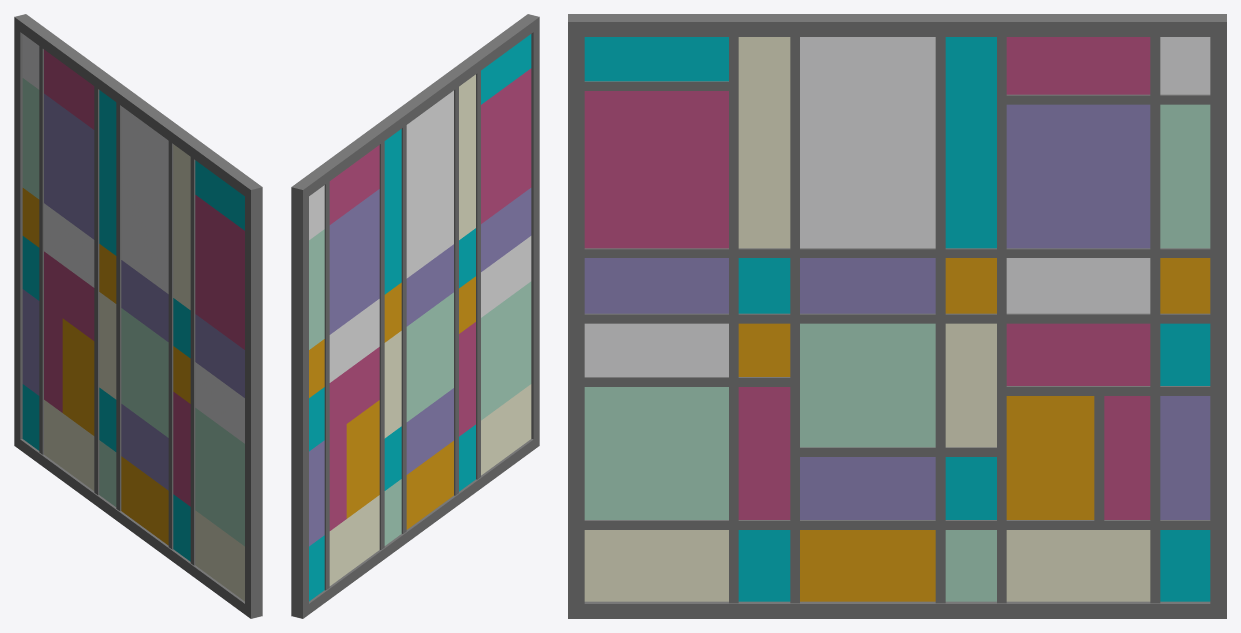
The model's file is SM_BlockGlassFramedColored.FBX.
3 renders of one model, left to right at view 1: azimuth 30°, elevation 25°; view 2: azimuth 150°, elevation 25°; view 3: azimuth 270°, elevation 25°, orthographic. The views are drawn at different scales.
Parts seen in each view (by area): view 1: SM_BlockGlassFramedColored_LOD0; view 2: SM_BlockGlassFramedColored_LOD0; view 3: SM_BlockGlassFramedColored_LOD0.
Boxes of the visible parts, box(x1,y1,x2,y2) form: SM_BlockGlassFramedColored_LOD0: box(14, 14, 262, 618); SM_BlockGlassFramedColored_LOD0: box(291, 14, 539, 618); SM_BlockGlassFramedColored_LOD0: box(568, 14, 1226, 618).
Size of what is drawn, in the model's own units: 11.55 by 400 by 400.
